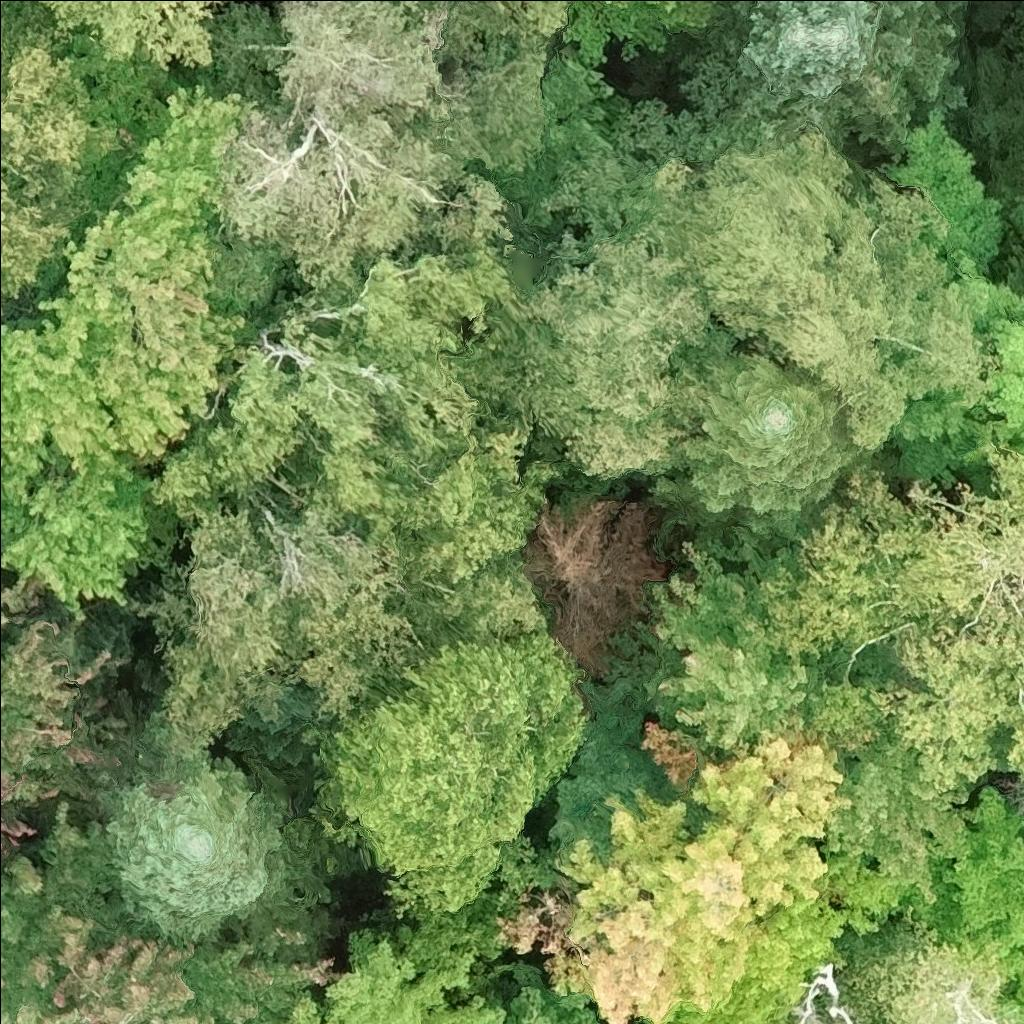crown: (150, 241, 576, 759), (619, 122, 999, 458), (191, 0, 554, 298), (0, 76, 252, 478), (754, 443, 1023, 809), (555, 714, 852, 1023), (305, 628, 591, 920), (0, 796, 346, 1023), (88, 707, 339, 944), (519, 230, 736, 482), (0, 0, 166, 314), (660, 850, 917, 1023), (641, 520, 826, 760), (677, 0, 972, 141), (655, 349, 868, 543), (0, 576, 141, 864), (252, 889, 510, 1023), (0, 455, 186, 621), (893, 256, 1023, 492), (904, 786, 1023, 1023), (826, 719, 971, 905), (526, 498, 675, 673), (836, 905, 1012, 1023), (39, 0, 225, 75), (595, 0, 731, 26), (1007, 192, 1023, 292), (0, 567, 2, 578)
